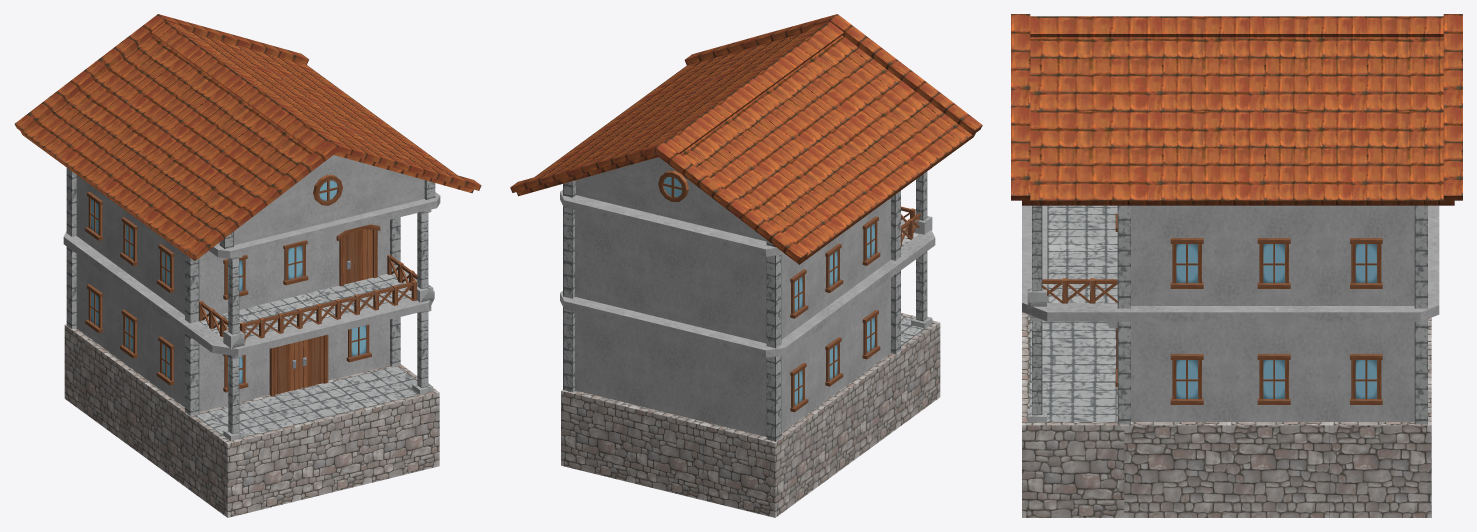
Rendered from house_town_grey_0.glb.
3 views of the same model, side by side, from view 1: azimuth 30°, elevation 25°; view 2: azimuth 150°, elevation 25°; view 3: azimuth 270°, elevation 25° (orthographic). The views are drawn at different scales.
Parts seen in each view (by area): view 1: house_town_grey_0; view 2: house_town_grey_0; view 3: house_town_grey_0.
Boxes of the visible parts, x1,y1,x2,y2 form: house_town_grey_0: (14,14,481,517); house_town_grey_0: (510,14,982,517); house_town_grey_0: (1011,14,1462,517).
Bounding box in the file's own units: 16.27 × 18.92 × 17.65.
1 material, 1 textured.
